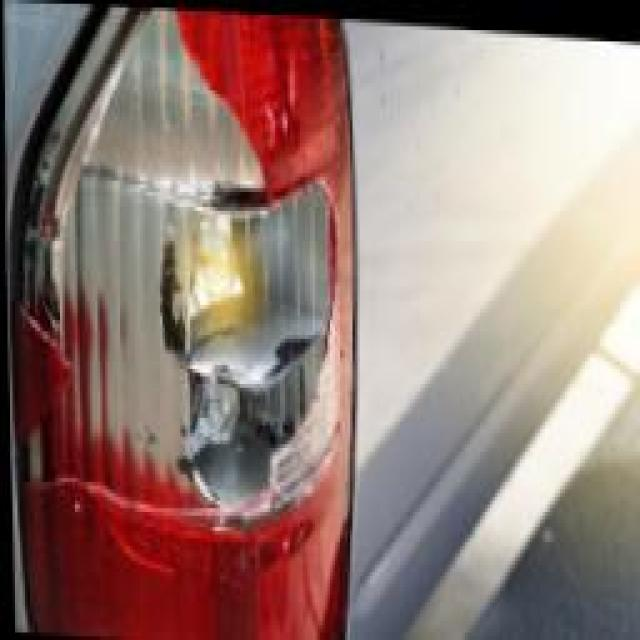Light: (8, 0, 360, 640)
